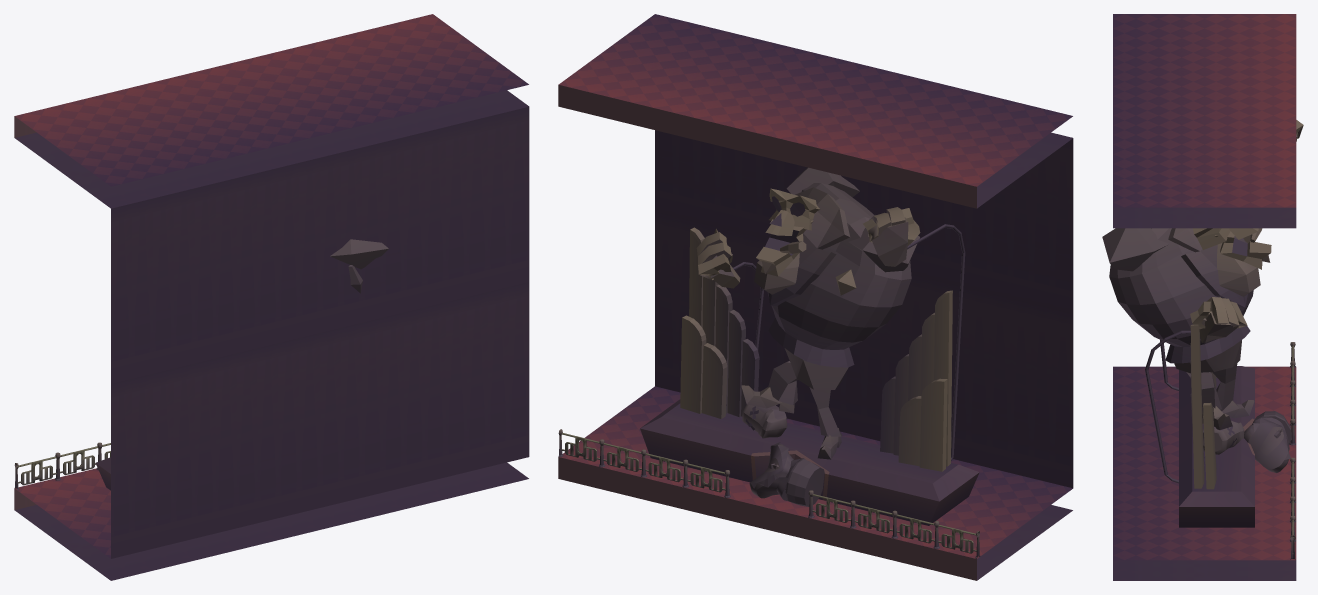
Rendered from SM_ArtRoom-B.fbx.
3 views of the same model, side by side, from view 1: azimuth 30°, elevation 25°; view 2: azimuth 150°, elevation 25°; view 3: azimuth 270°, elevation 25° (orthographic). The views are drawn at different scales.
Visible parts, largest first — view 1: SM_BackgroundPlane.026; view 2: SM_BackgroundPlane.026; view 3: SM_BackgroundPlane.026.
Boxes of the visible parts, x1=… form: SM_BackgroundPlane.026: x1=14, y1=14, x2=529, y2=580; SM_BackgroundPlane.026: x1=558, y1=14, x2=1073, y2=580; SM_BackgroundPlane.026: x1=1102, y1=14, x2=1303, y2=580.
Bounding box in the file's own units: 2000 × 880 × 1800.
